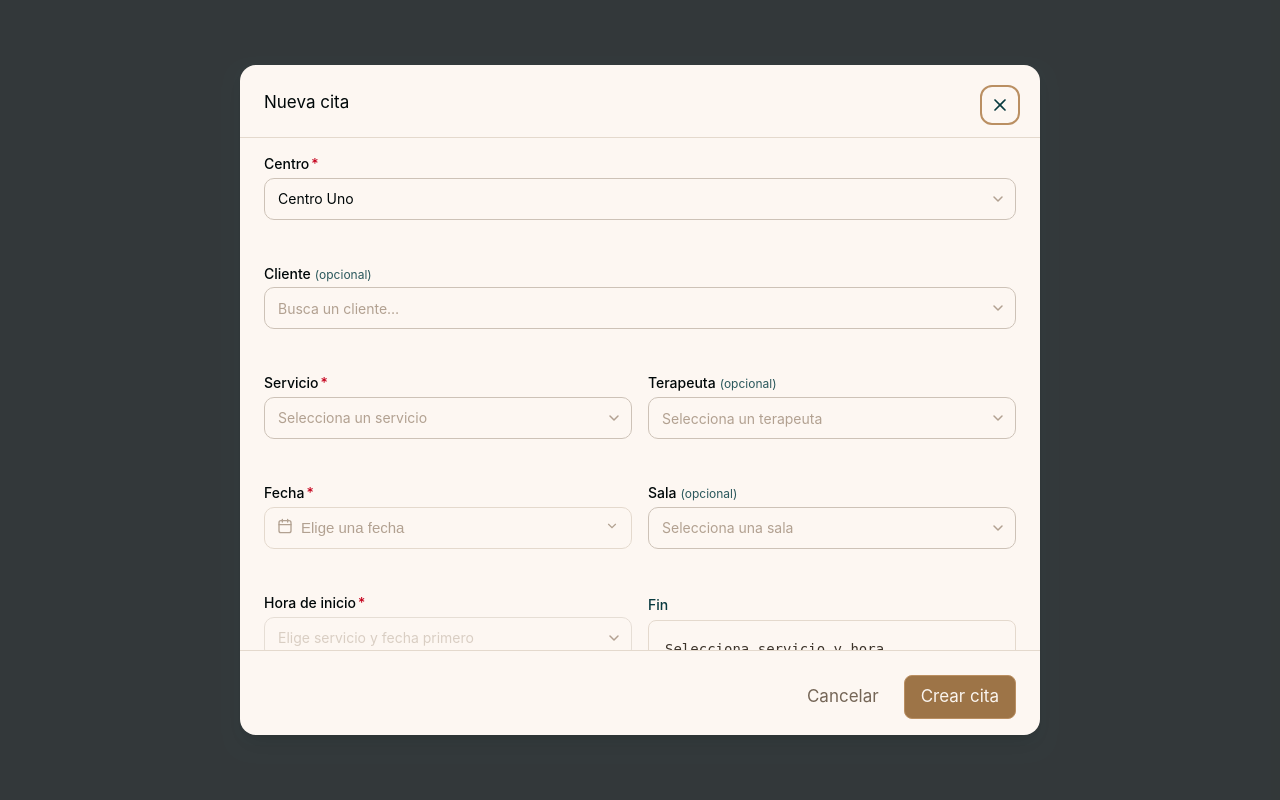
Scenario: CitaModal — centro selector › create mode renders the centro selector with all active centros as options
The width and height of the screenshot is (1280, 800).
expect the text "Centro" is shown: met, box [264,155,309,172]
// The user's centros populate the Select options.
Step 1. Click the button labelled "Centro Uno" → x=316, y=199, box [264,178,1016,220]
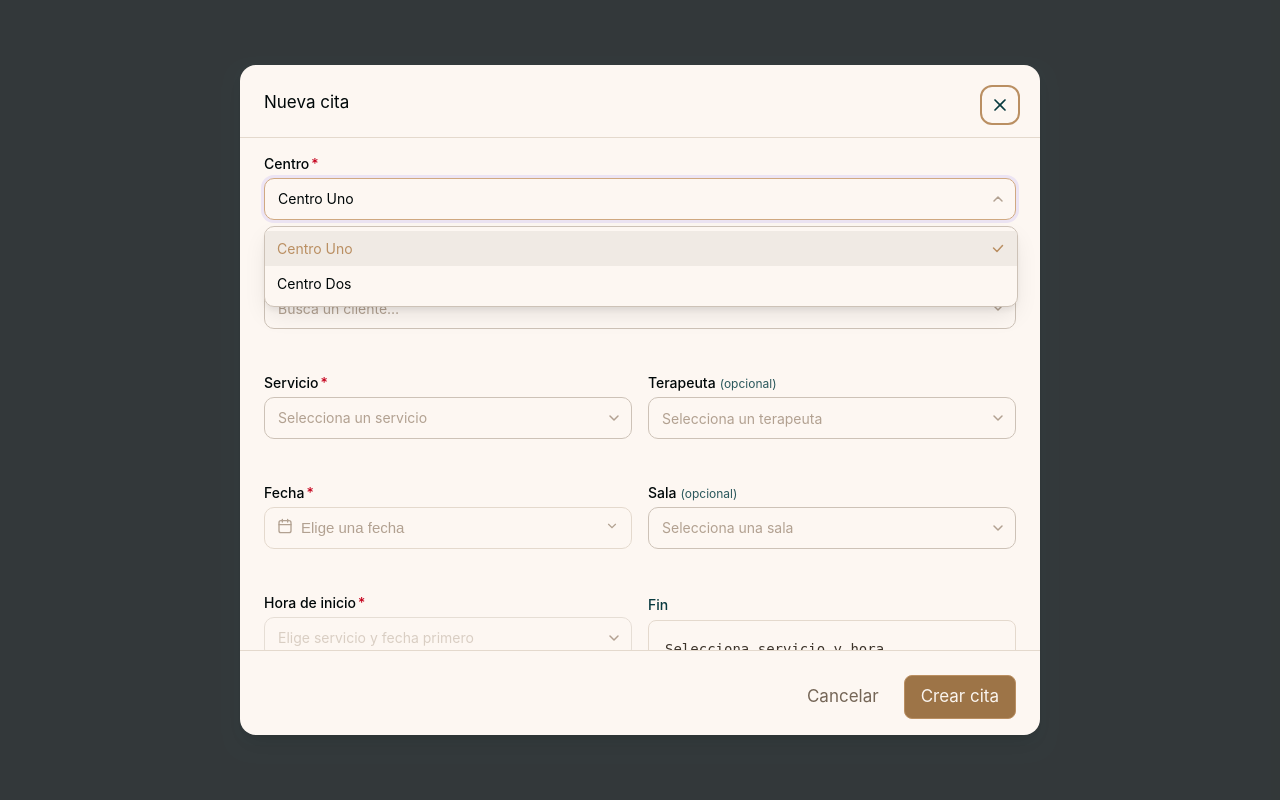
expect the option "Centro Uno" is shown: met, box [265,231,1017,266]
expect the option "Centro Dos" is shown: met, box [265,266,1017,302]
